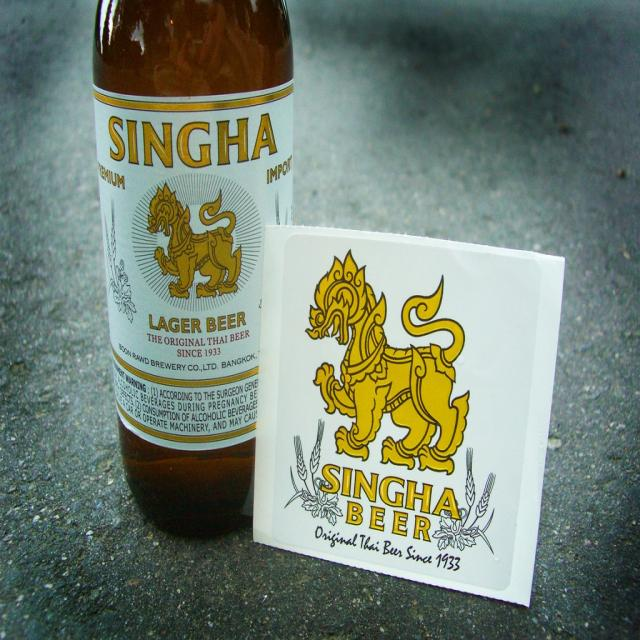singha: (272, 234, 544, 596), (94, 88, 297, 389)
